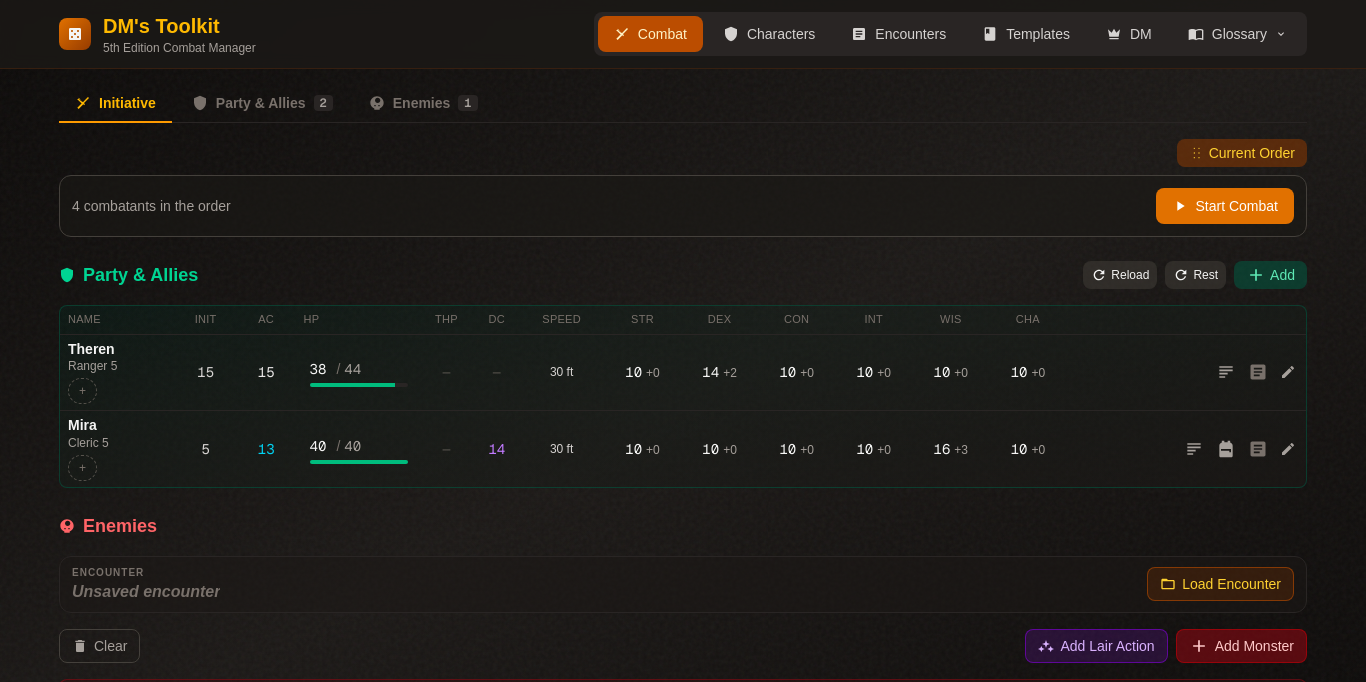
CombatPage — turn tracker › clamps the pointer when the active combatant leaves the fight
Click the button "Start Combat".
click(1225, 206)  # box [1156,188,1294,224]
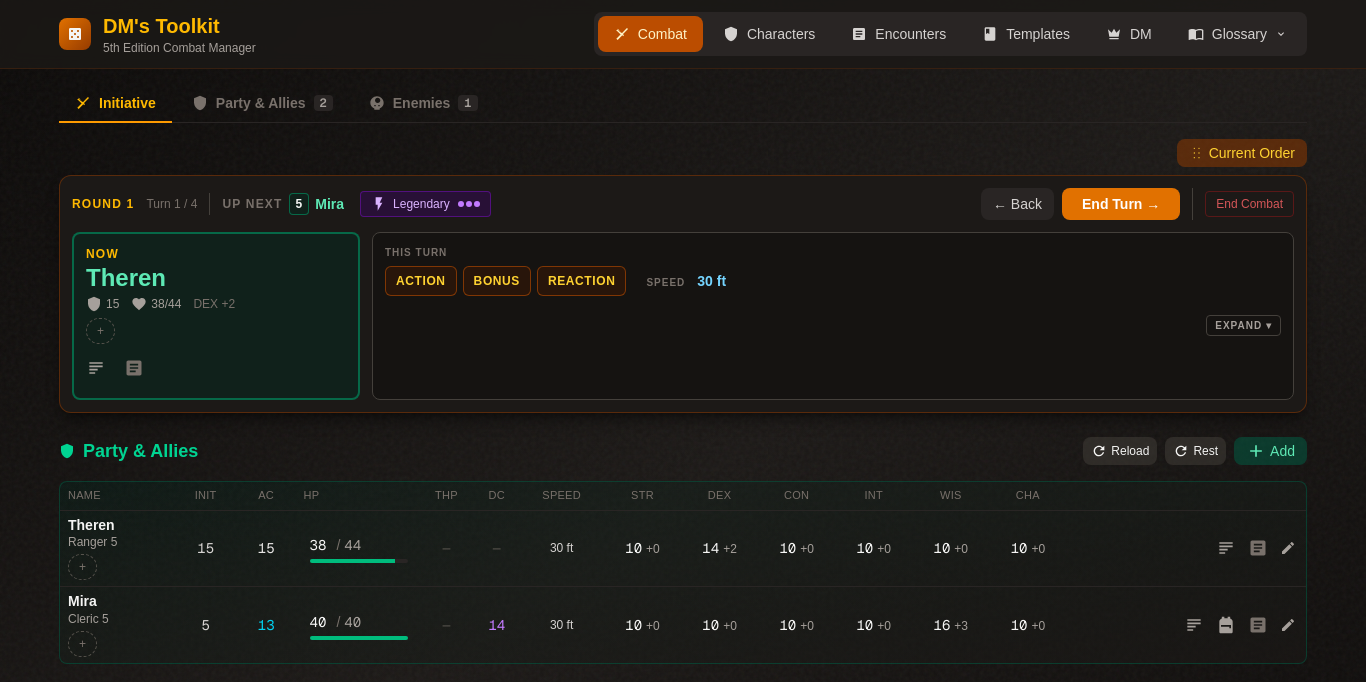
Click the button "Current Order".
click(1242, 153)  # box [1177,139,1307,167]
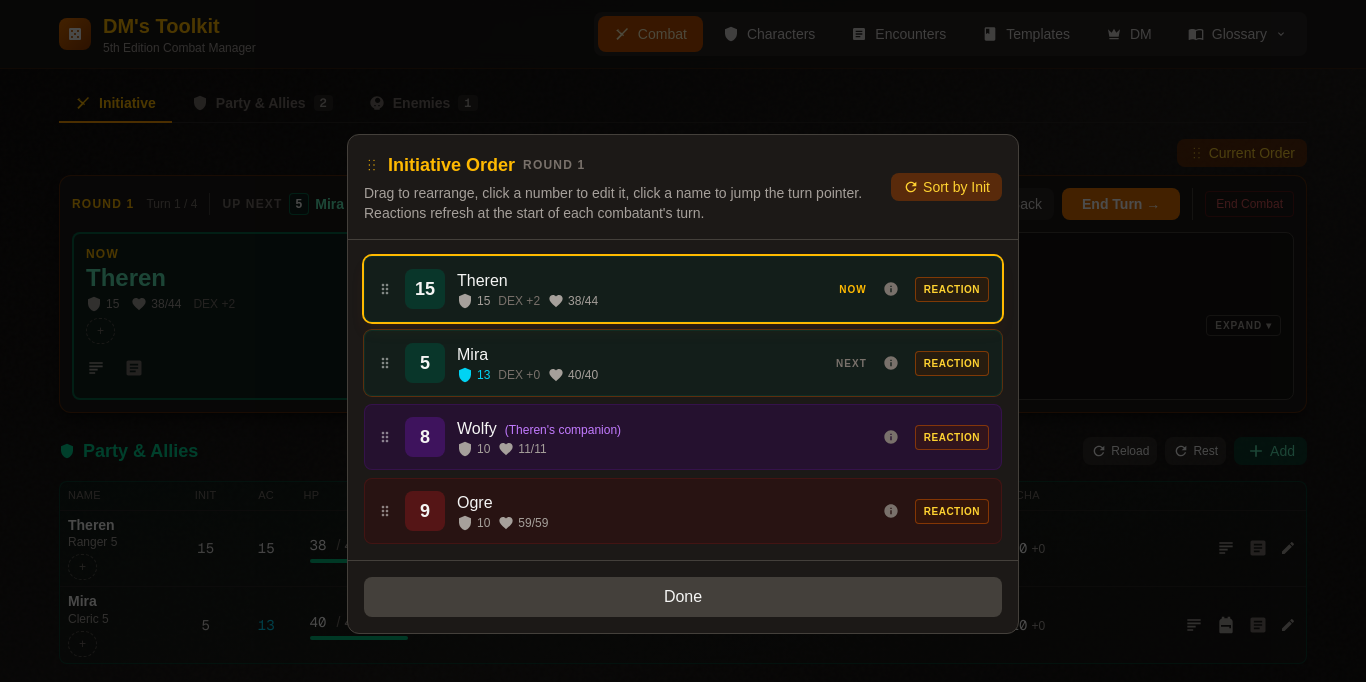
Click the text "Ogre".
click(475, 502)  # box [457,494,493,511]
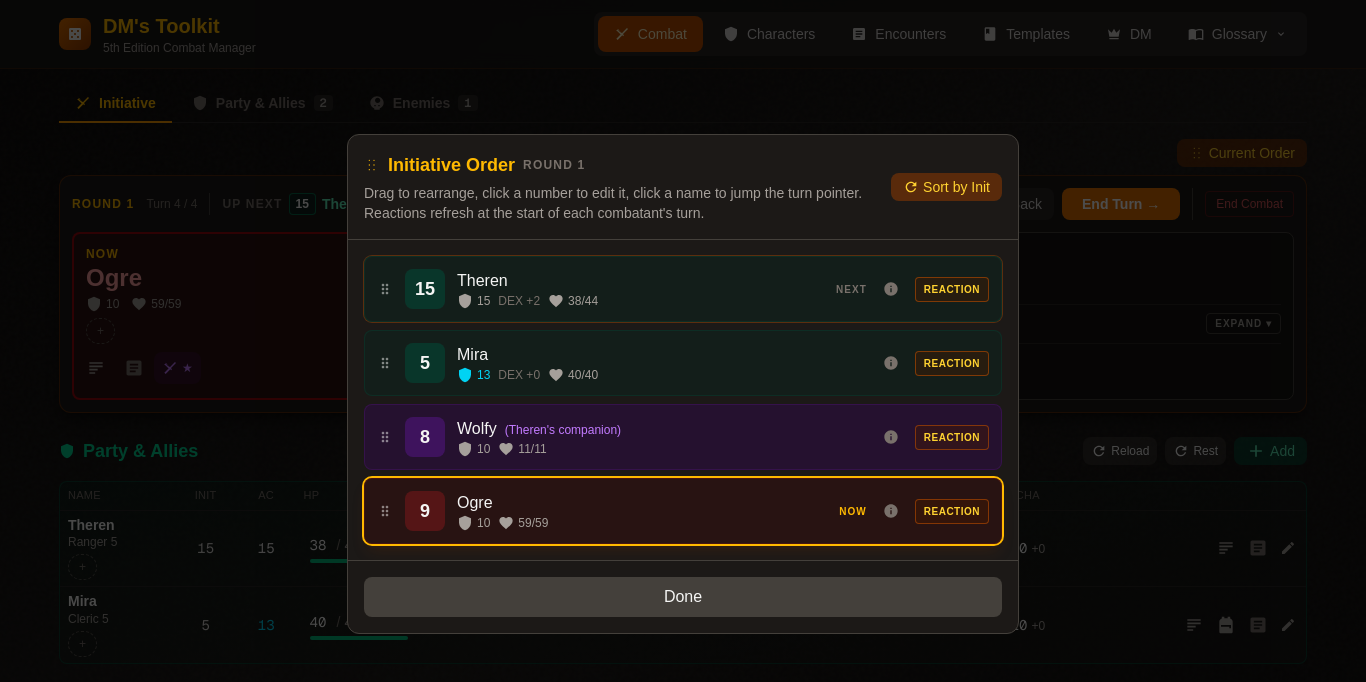
Click the button "Done".
click(683, 597)  # box [364,577,1002,617]
(page scrolled)
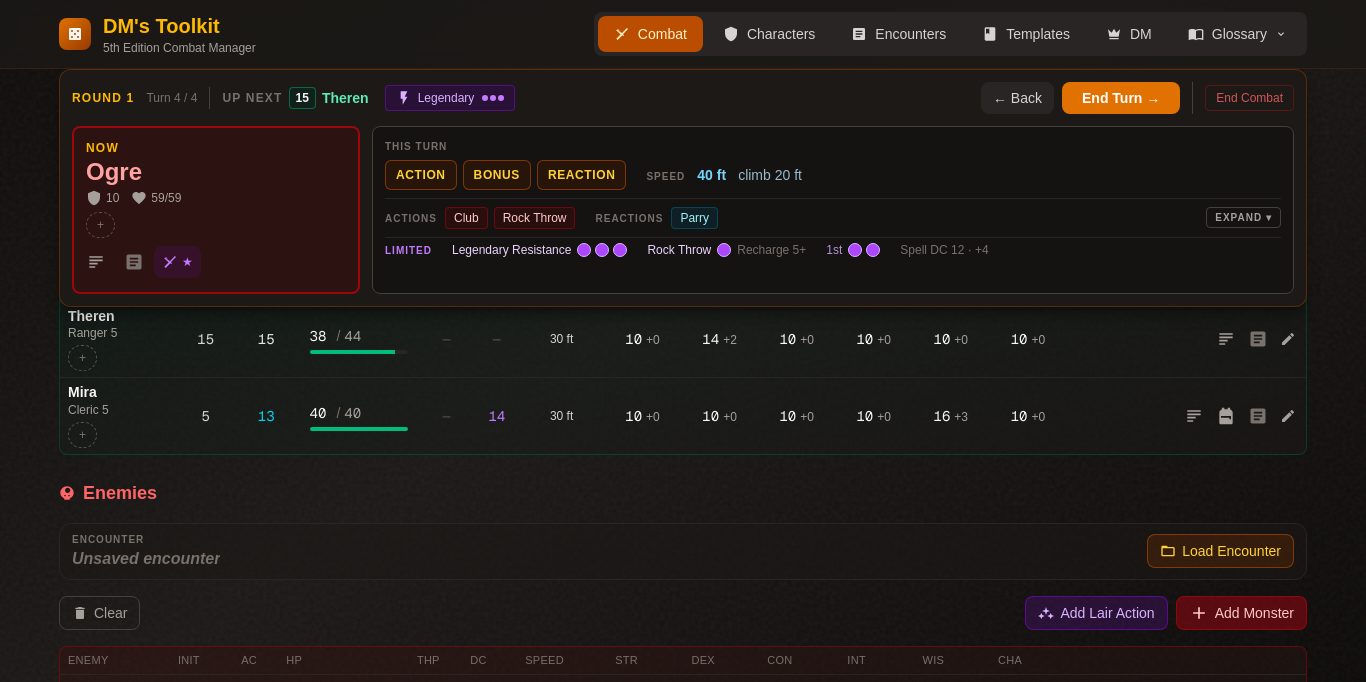
Check: the button "Ogre" is shown, box [86,156,142,188]
Click the button titled "Clear encounter".
click(100, 613)  # box [59,596,140,630]
(page scrolled)
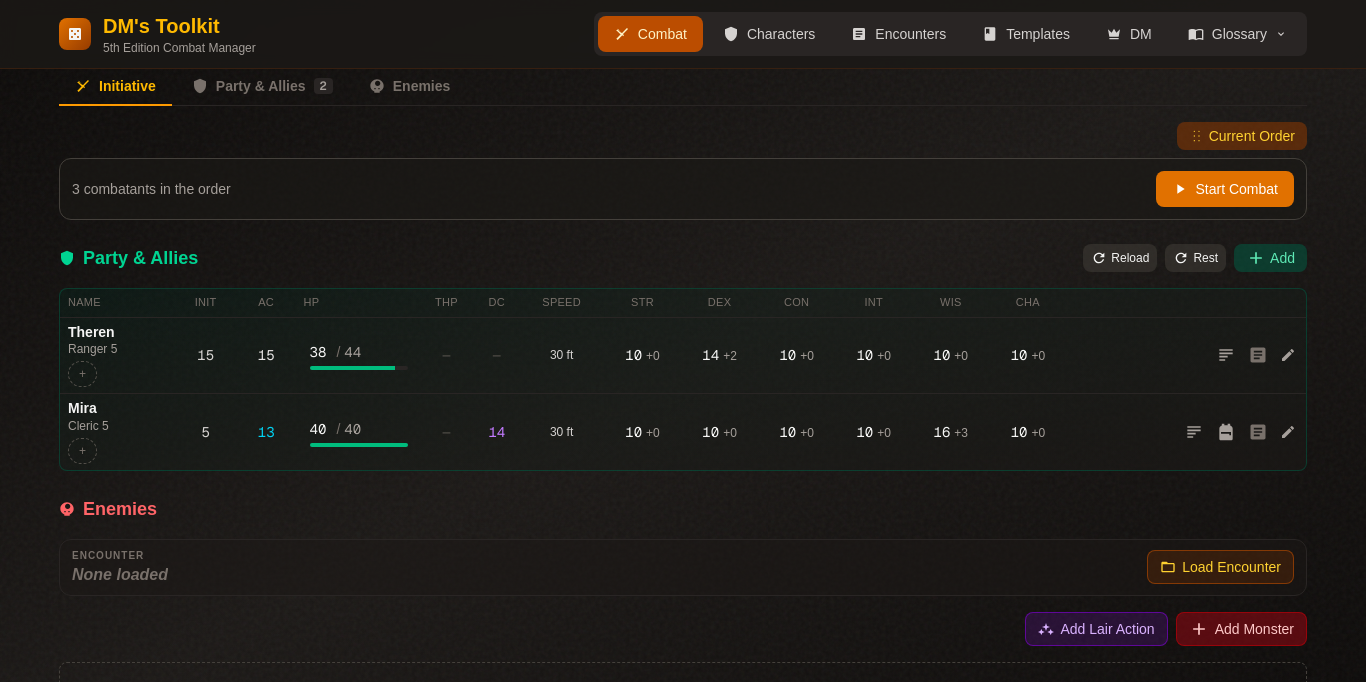
Check: the button "Start Combat" is shown, box [1156,171,1294,207]
